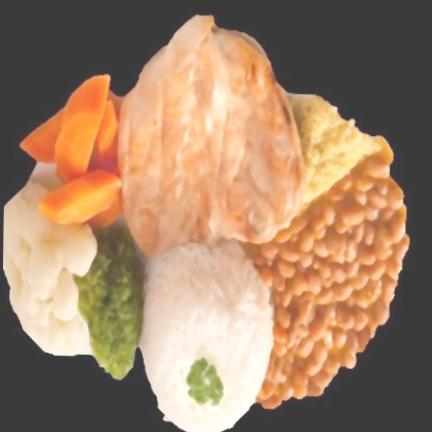beans: (242, 134, 409, 409)
broccoli: (74, 233, 143, 378)
carrot: (21, 76, 121, 227)
cauliflower: (3, 181, 96, 356)
chicken: (119, 16, 305, 256)
rice: (140, 242, 272, 432)
